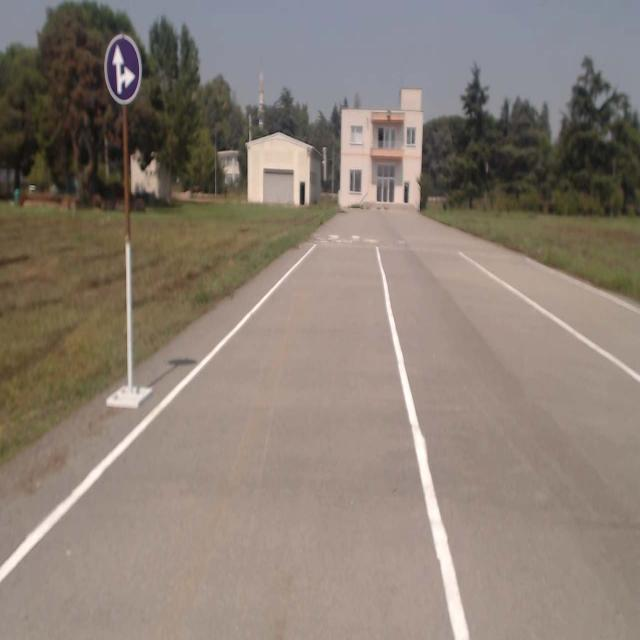ilerisag: (105, 38, 142, 102)
